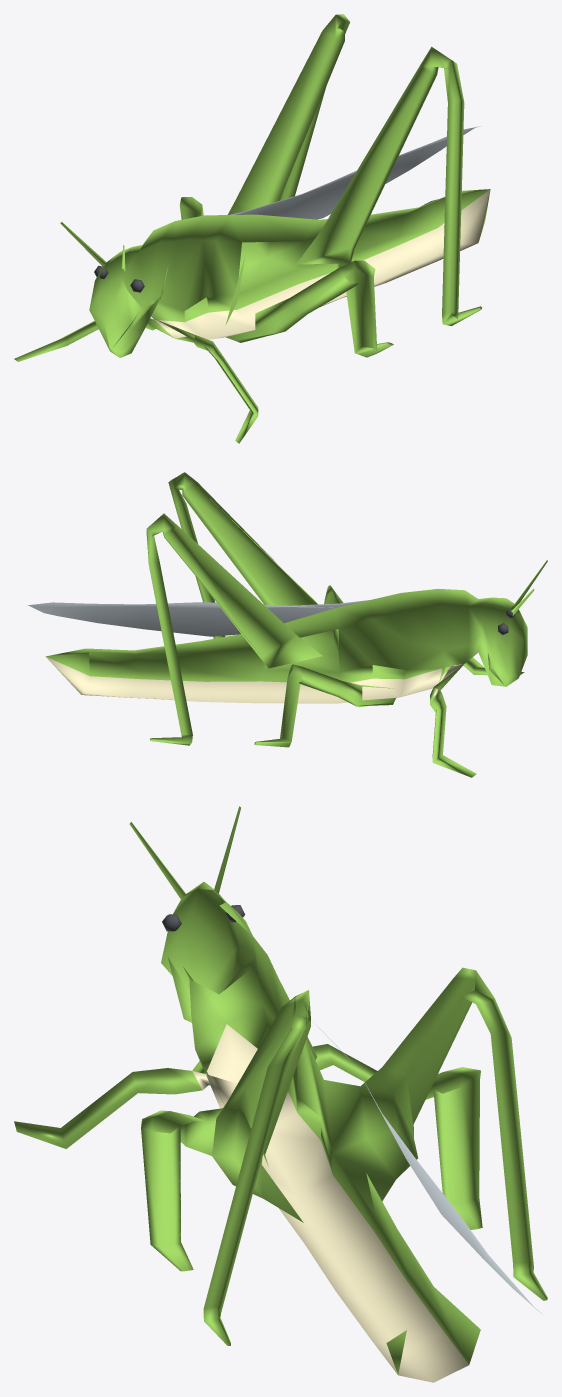
Rendered from e3HTaUWGeWs.glb.
3 renders of one model, top to bottom at view 1: azimuth 30°, elevation 25°; view 2: azimuth 150°, elevation 25°; view 3: azimuth 270°, elevation 25°, orthographic. The views are drawn at different scales.
Parts seen in each view (by area): view 1: Body, Wings; view 2: Body, Wings; view 3: Body, Wings.
Boxes of the visible parts, x1=… form: Body: x1=14, y1=14, x2=490, y2=443; Wings: x1=230, y1=126, x2=481, y2=219; Body: x1=45, y1=472, x2=547, y2=777; Wings: x1=28, y1=600, x2=369, y2=636; Body: x1=14, y1=806, x2=547, y2=1382; Wings: x1=311, y1=1020, x2=542, y2=1314.
Size of the model in its own units: 2.29 by 1 by 1.4.
